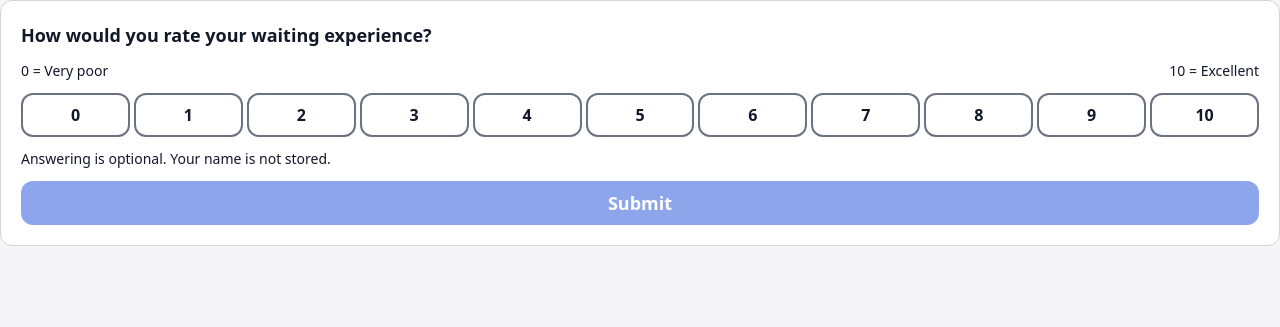
Test: SurveyBox › shows the survey's not-saved line when the answer is refused
Click the radio button labelled "5".
click(640, 115)  # box [586,93,694,137]
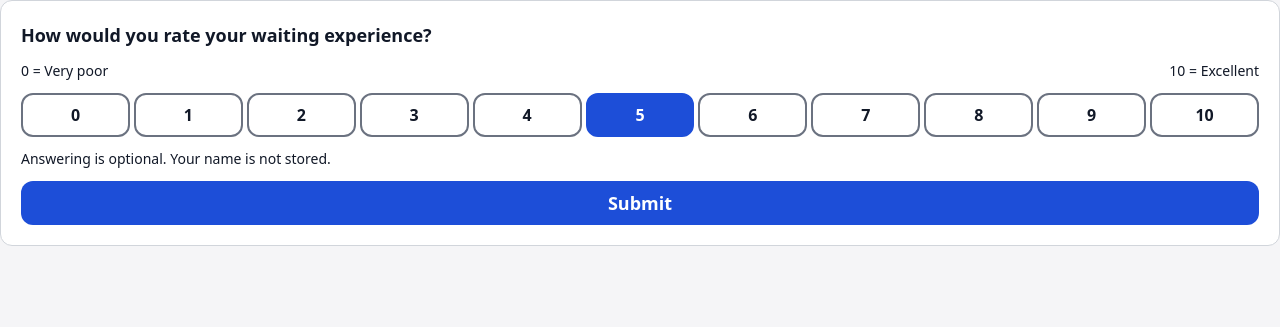
Click the submit button.
click(640, 203)  # box [21,181,1259,225]
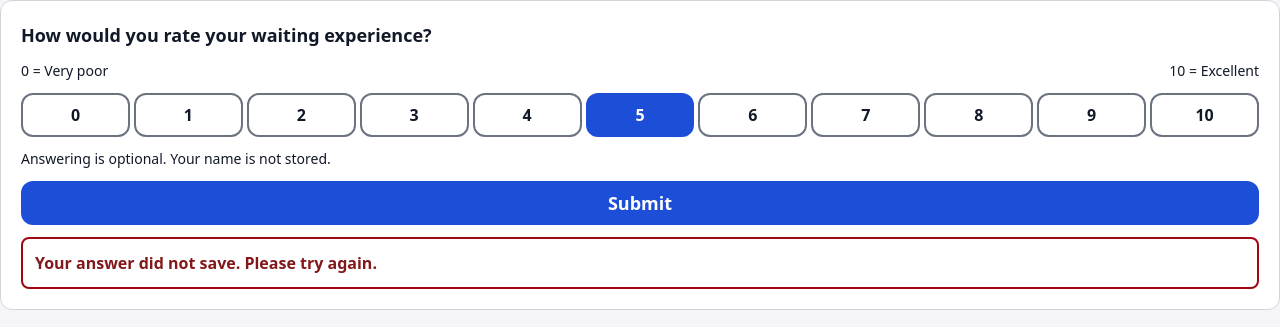
Expected: the message "Your answer did not save. Please try again." is shown, [21,237,1259,289]
